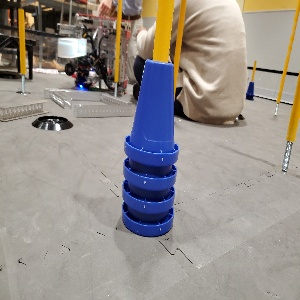Blue_2: (246, 80, 254, 101)
Blue_4: (121, 58, 179, 237)
